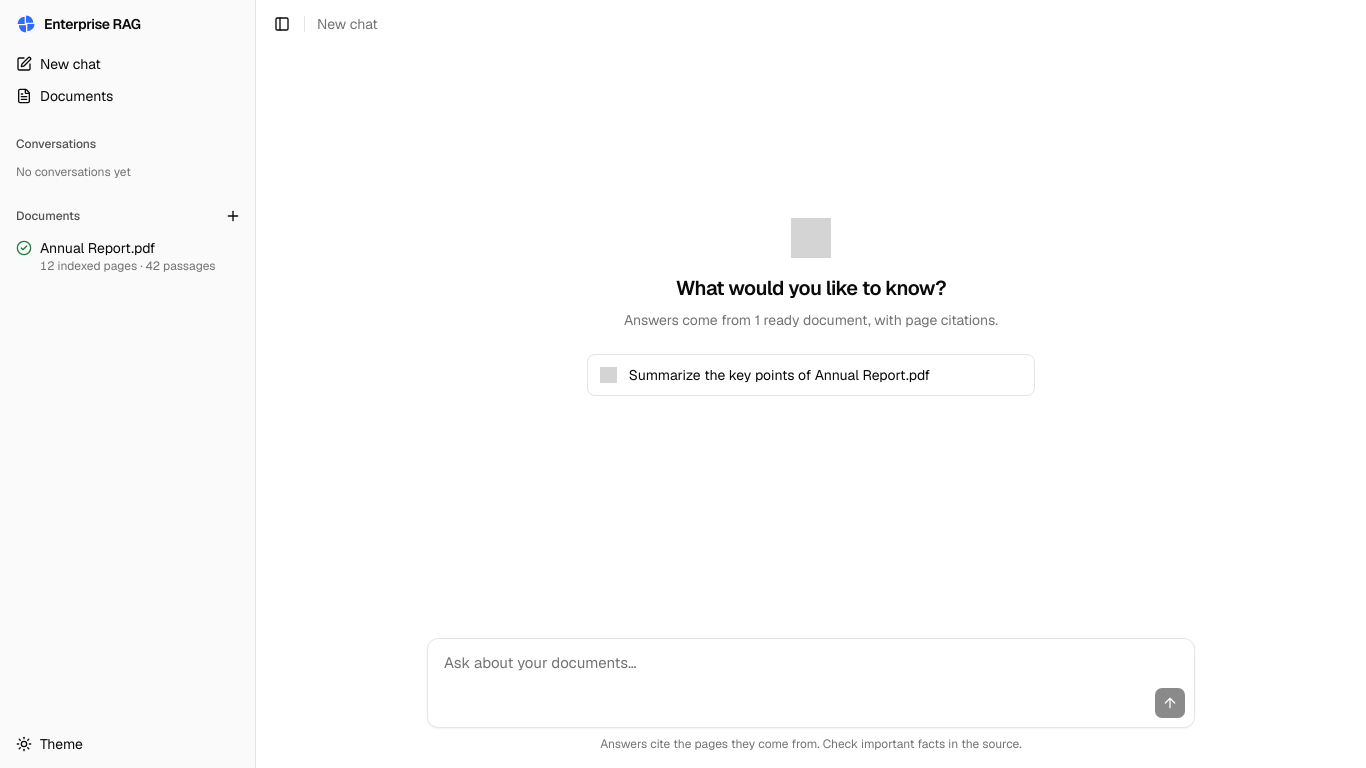
Test: renders tables in answers and sources as real tables, and emojis as Apple images
Type "Revenue table?" into the text box named "Question" at {"x": 811, "y": 663}, box top-left (428, 639), bottom-right (1194, 687)
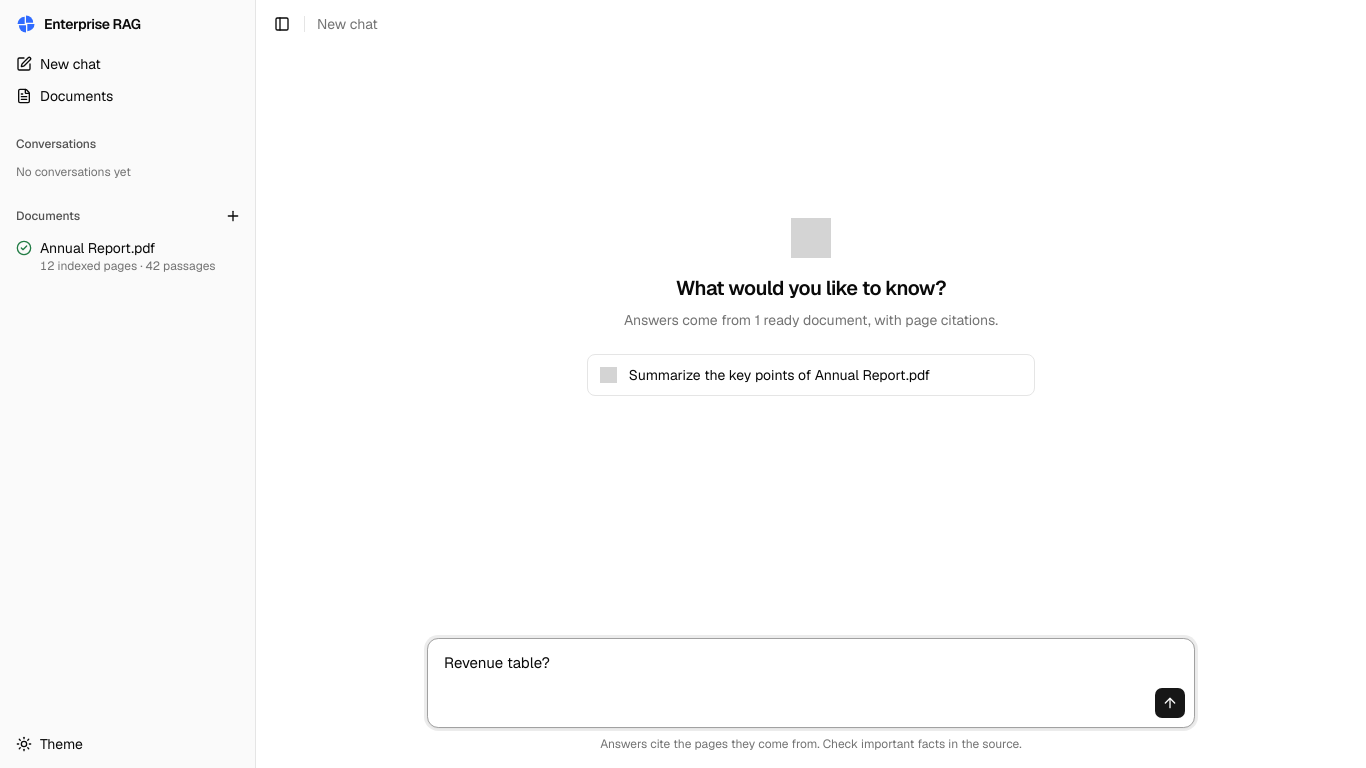
Press Enter
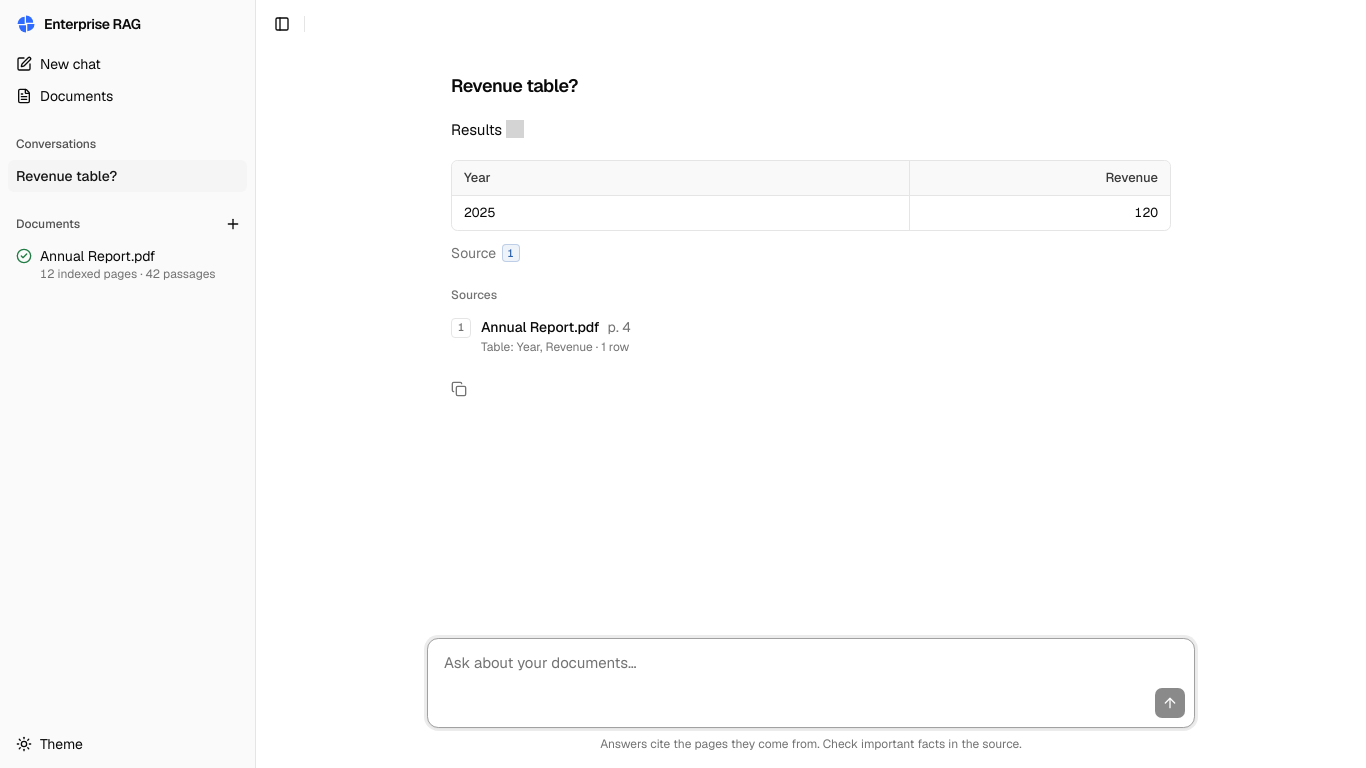
Expected: the element "Sources" is shown, top-left (451, 287), bottom-right (1171, 363)
Expected: the column headings read "Year", "Revenue", in this order, top-left (452, 161), bottom-right (909, 195); top-left (909, 161), bottom-right (1170, 195)
Expected: the cell "120" is shown, top-left (909, 195), bottom-right (1170, 230)
Click the button "1 Annual Report.pdf p. 4 Table: Year, Revenue · 1 row" at {"x": 540, "y": 327}, box top-left (443, 309), bottom-right (1179, 363)
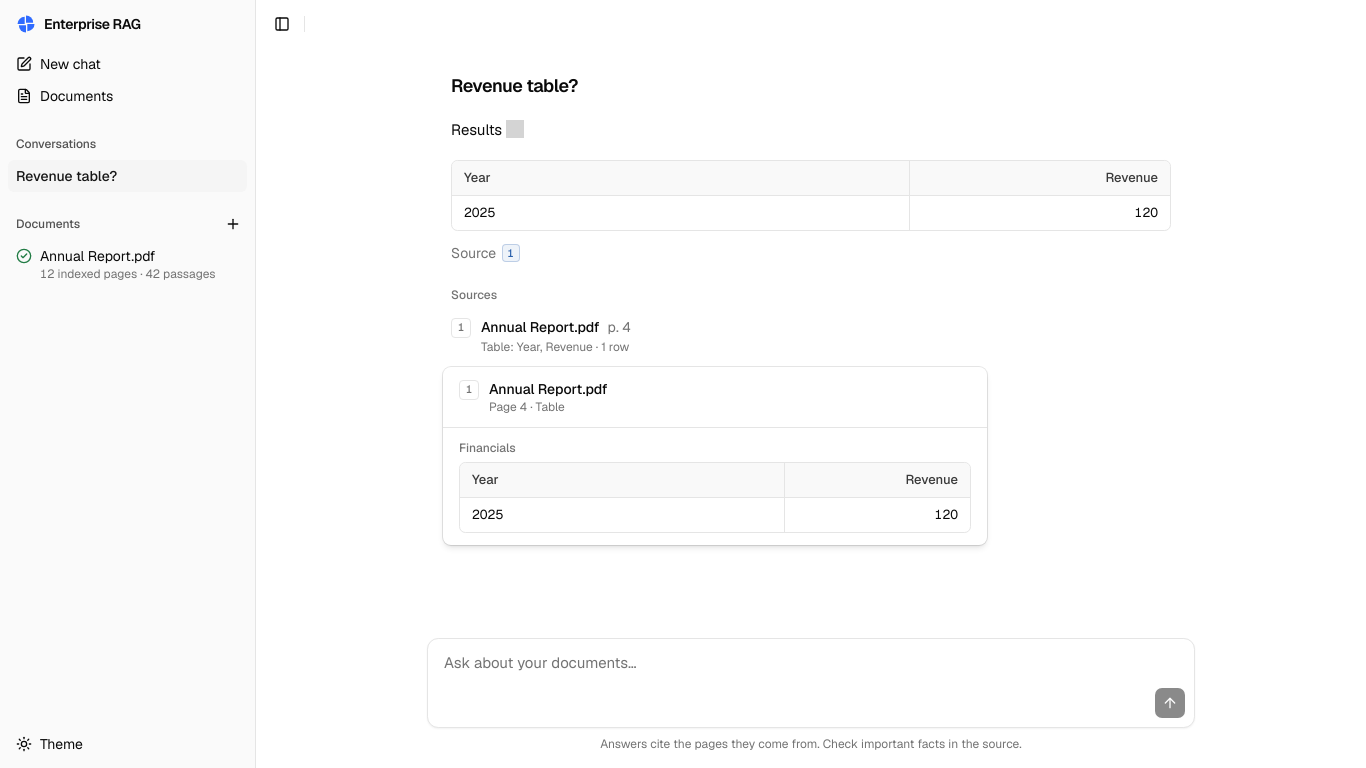
Expected: the dialog does not show "|2025|", top-left (466, 382), bottom-right (472, 396)
Expected: the column headings read "Year", "Revenue", in this order, top-left (460, 463), bottom-right (785, 497); top-left (785, 463), bottom-right (970, 497)
